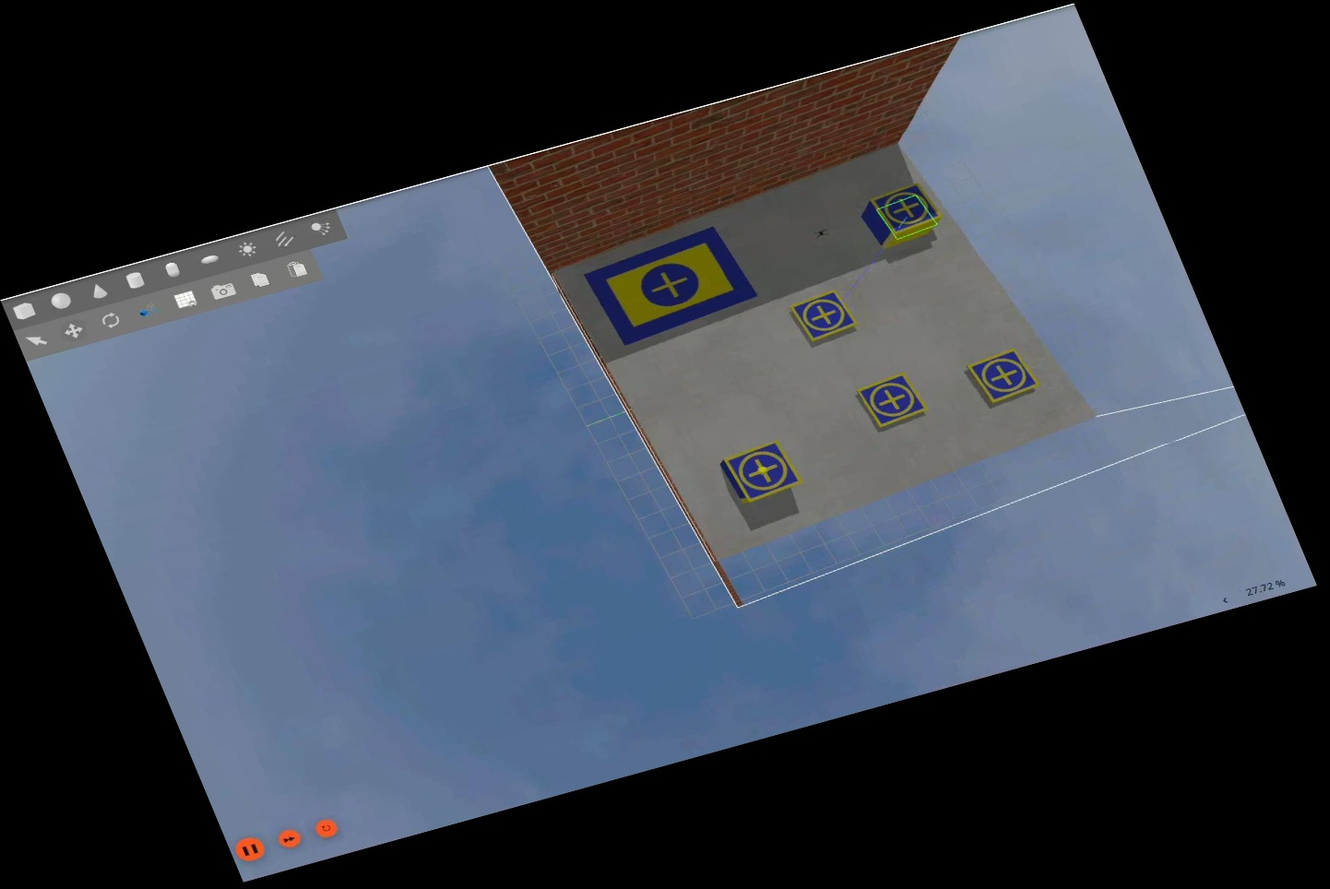large_base: (578, 222, 765, 348)
small_base: (721, 439, 808, 506), (966, 344, 1045, 408), (866, 179, 946, 240), (785, 285, 863, 347), (855, 371, 932, 431)
